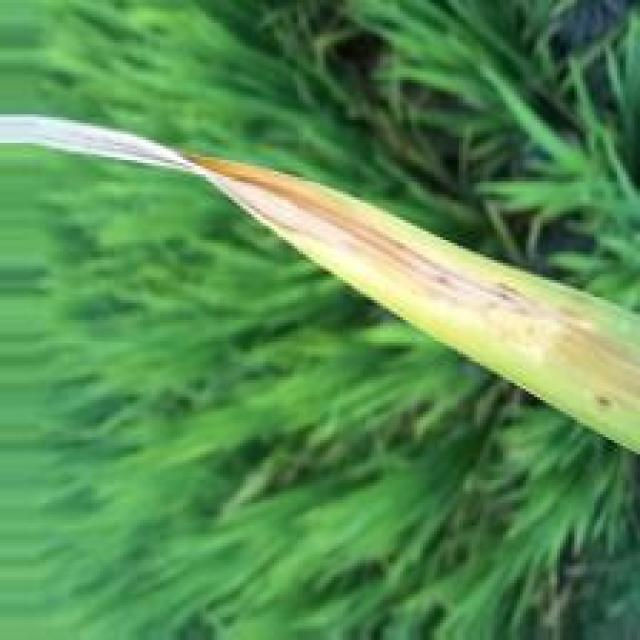Rice False Smut: (158, 149, 560, 328)
